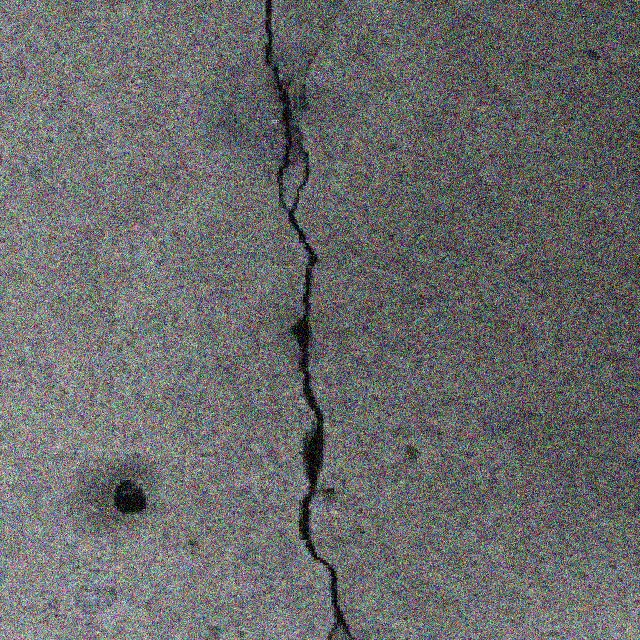SurfaceCrack: (264, 0, 388, 640)
